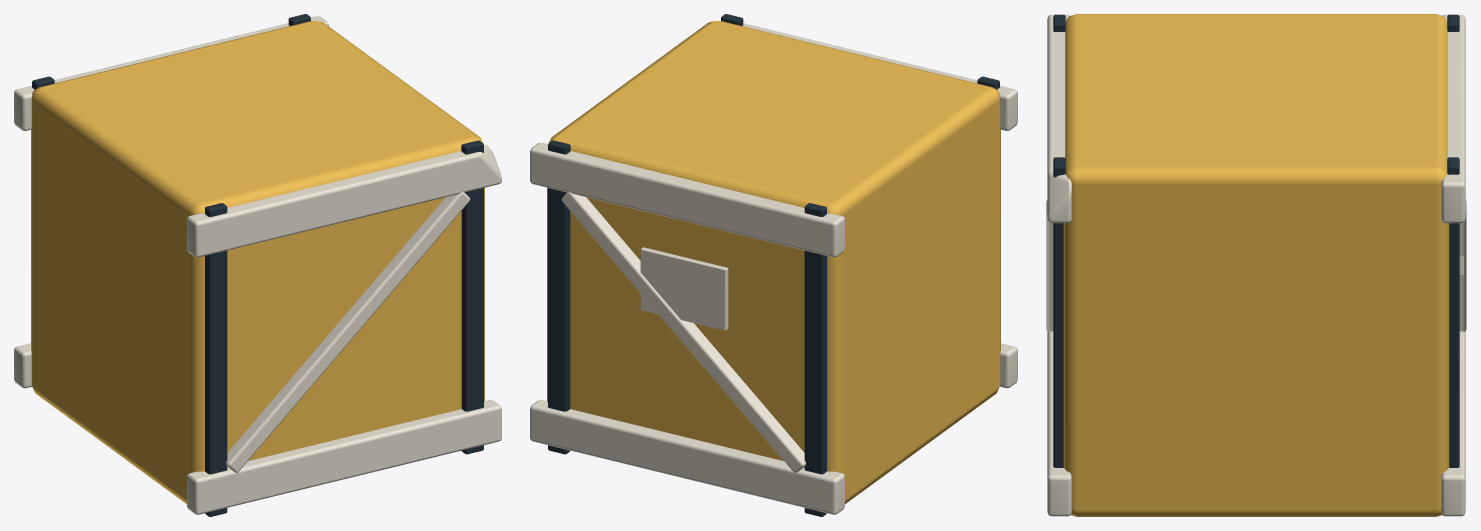
File: crate.glb
3 renders of one model, left to right at view 1: azimuth 30°, elevation 25°; view 2: azimuth 150°, elevation 25°; view 3: azimuth 270°, elevation 25°, orthographic. The views are drawn at different scales.
Visible parts, largest first — view 1: cargo, crate_cream, crate_ink; view 2: cargo, crate_cream, crate_ink; view 3: cargo, crate_cream, crate_ink.
Boxes of the visible parts, x1,y1,x2,y2 form: cargo: (31,21,484,503); crate_cream: (14,16,501,514); crate_ink: (32,14,483,516); cargo: (547,21,1000,503); crate_cream: (530,23,1017,514); crate_ink: (548,14,999,516); cargo: (1063,14,1449,516); crate_cream: (1046,14,1466,516); crate_ink: (1053,14,1459,467).
Size of the model in its own units: 1.15 by 1.1 by 1.2.
